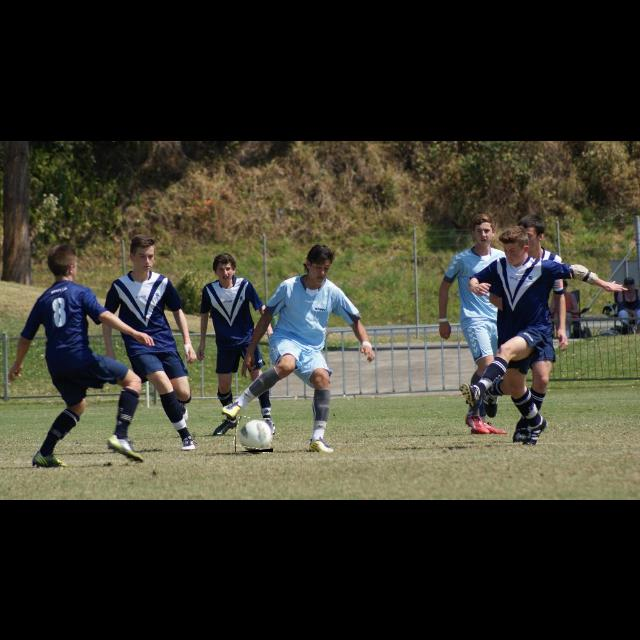Football: (235, 418, 273, 452)
